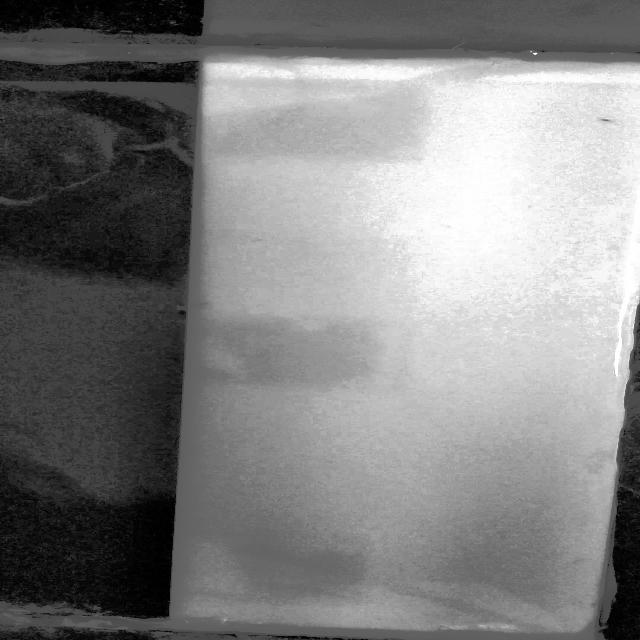shrimp: (592, 115, 620, 128)
